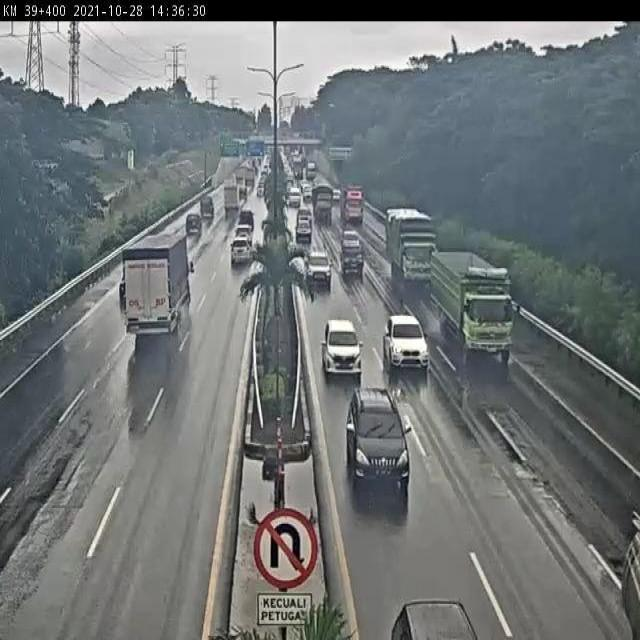big truck: (428, 247, 518, 365), (124, 234, 191, 334), (382, 205, 438, 291)
car: (346, 384, 413, 495), (384, 315, 430, 376), (322, 317, 365, 379), (339, 242, 365, 278), (304, 247, 329, 284), (226, 240, 250, 272), (338, 229, 362, 255), (196, 193, 215, 223), (232, 223, 253, 248), (183, 209, 202, 236), (295, 217, 314, 244), (115, 276, 128, 313), (236, 208, 255, 231)
